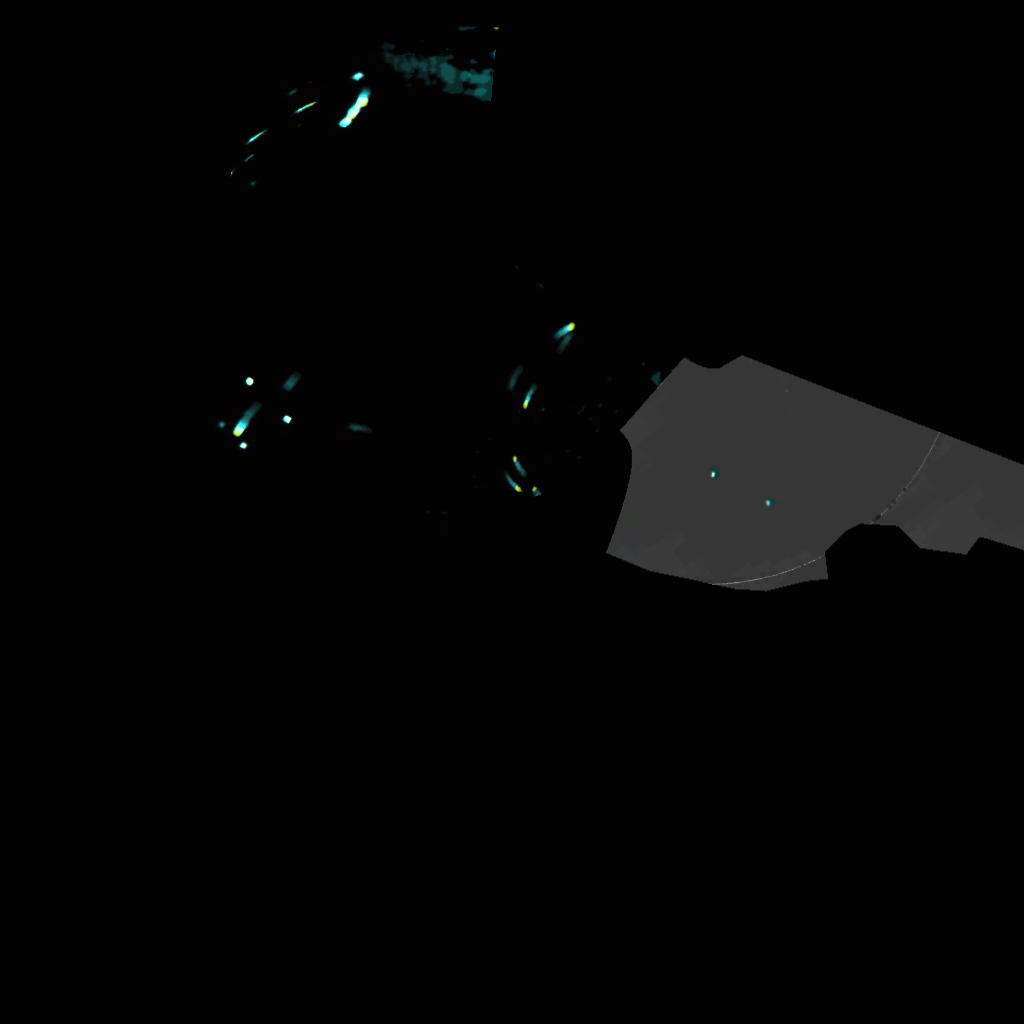B: (522, 385, 536, 411), (233, 418, 251, 438), (558, 323, 578, 340), (503, 474, 521, 492), (511, 453, 524, 477), (356, 89, 371, 105), (348, 104, 361, 120)
